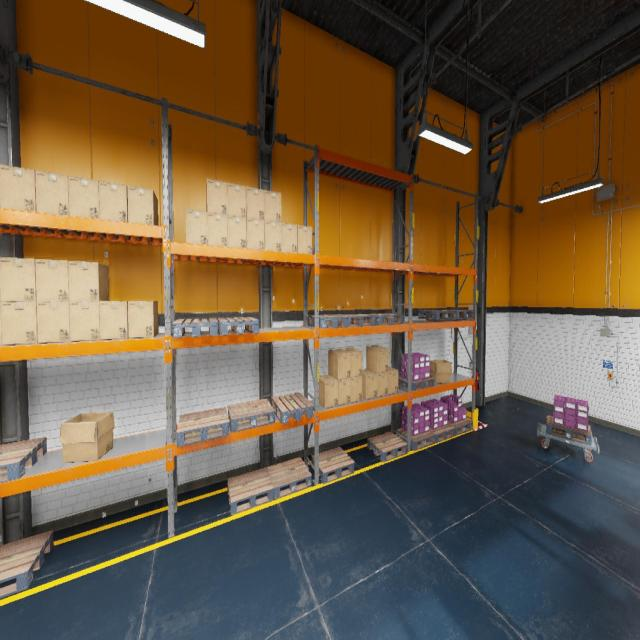box: (59, 411, 114, 462), (0, 164, 36, 212), (0, 301, 38, 345), (68, 261, 109, 300), (0, 257, 36, 301), (35, 170, 69, 215), (68, 175, 100, 219), (35, 259, 69, 300), (37, 301, 70, 343), (69, 301, 100, 341), (99, 180, 128, 222), (127, 186, 158, 225), (99, 300, 128, 340), (128, 300, 158, 338), (206, 178, 228, 214), (186, 208, 207, 244), (207, 212, 228, 247), (228, 182, 246, 218), (319, 374, 338, 408), (329, 349, 350, 379), (366, 369, 388, 397), (366, 345, 388, 373), (341, 348, 362, 377), (228, 215, 246, 248), (247, 186, 264, 220), (247, 218, 264, 250), (264, 190, 281, 222), (265, 220, 281, 252), (362, 368, 378, 399), (430, 360, 451, 383), (281, 222, 297, 252), (298, 225, 312, 254), (338, 378, 350, 405), (351, 376, 362, 403), (388, 366, 398, 394), (0, 302, 2, 346)
pallets: (0, 529, 53, 598), (227, 468, 274, 515), (0, 437, 47, 483), (177, 407, 229, 447), (267, 457, 311, 499), (228, 398, 274, 433), (311, 447, 355, 483), (546, 415, 592, 445), (272, 392, 314, 424), (367, 432, 408, 462), (172, 318, 218, 338), (397, 428, 435, 450), (217, 317, 259, 335), (398, 374, 434, 390), (308, 315, 348, 328), (337, 314, 376, 327), (430, 424, 455, 442), (368, 313, 404, 325), (448, 418, 472, 435), (418, 310, 456, 319), (440, 309, 474, 319)
